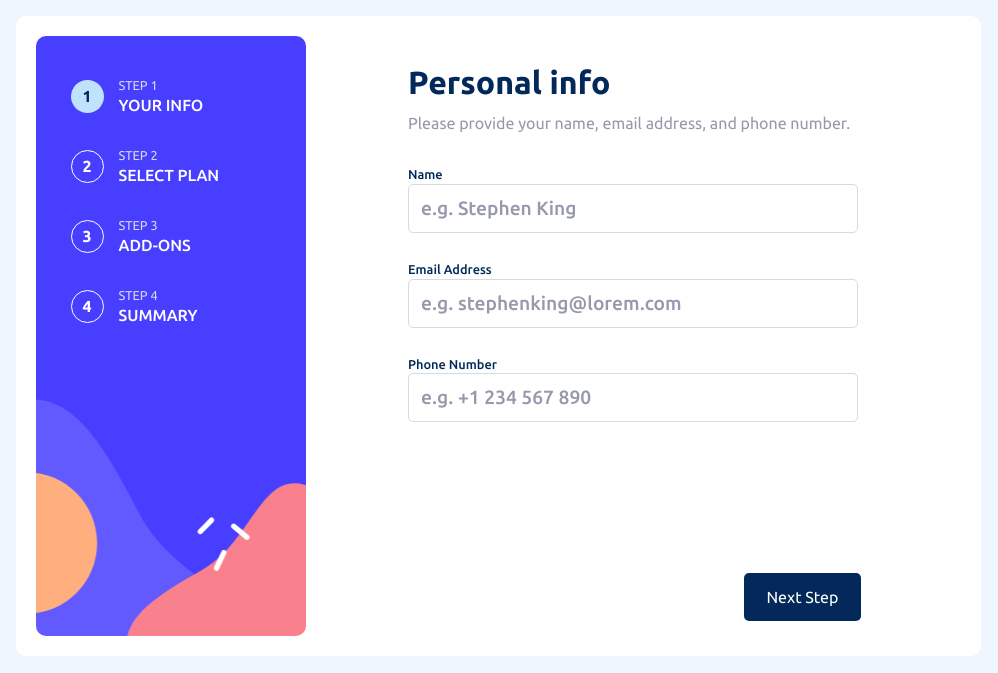
it: Normal usage - desktop › should not proceed if the form is wrong
Click the button "Next Step" at (802, 597), box [744,573,860,621]
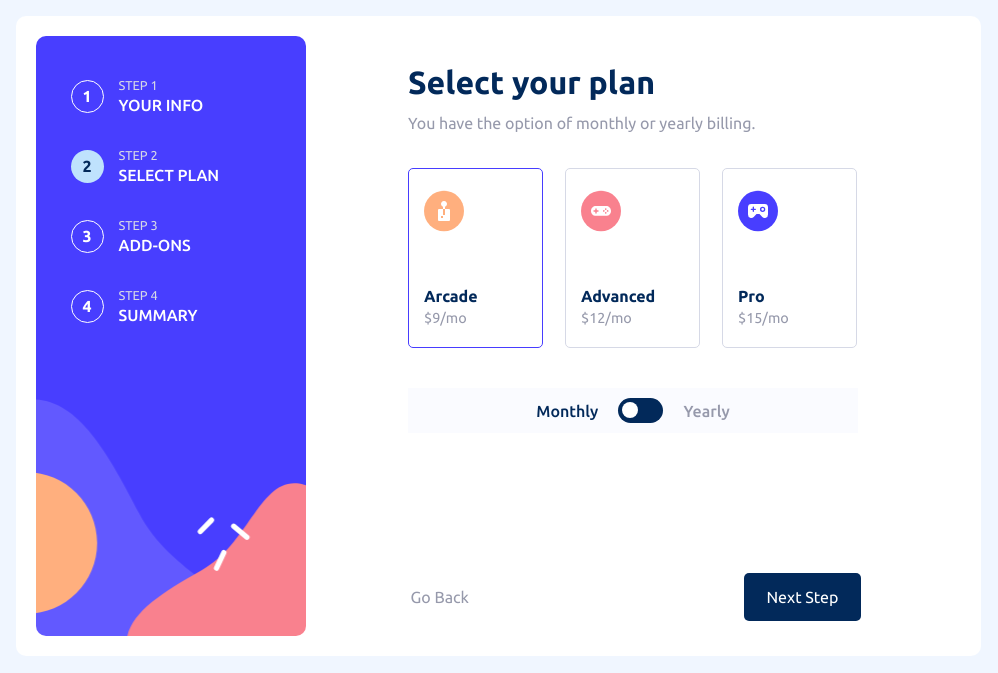
Click the button "Next Step" at (802, 597), box [744,573,860,621]
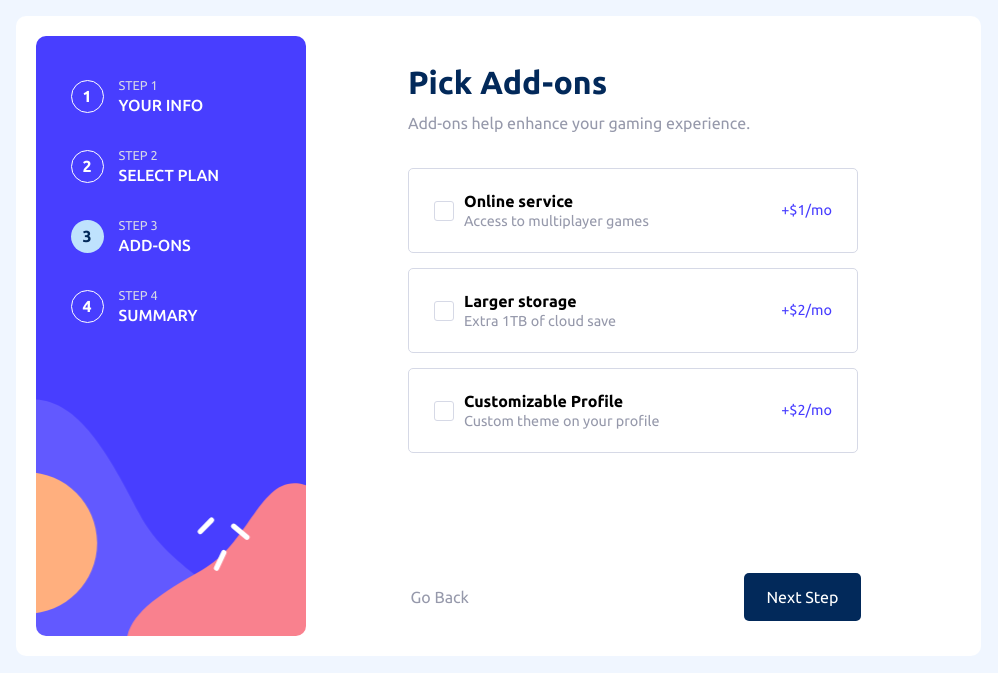
Click the button "Next Step" at (802, 597), box [744,573,860,621]
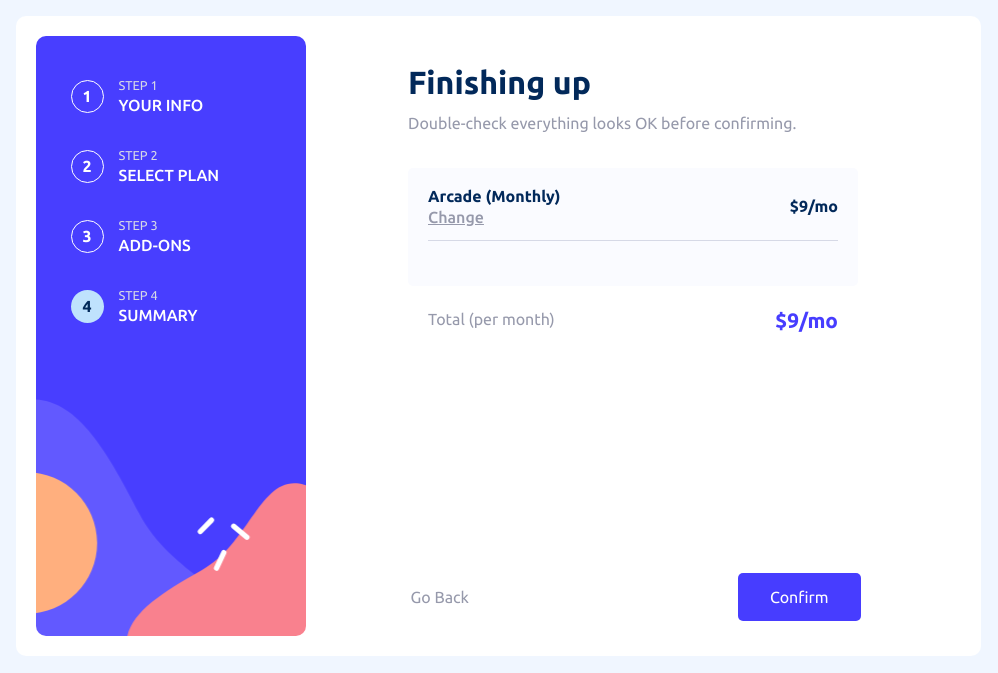
Click the button "Confirm" at (800, 597), box [738,573,861,621]
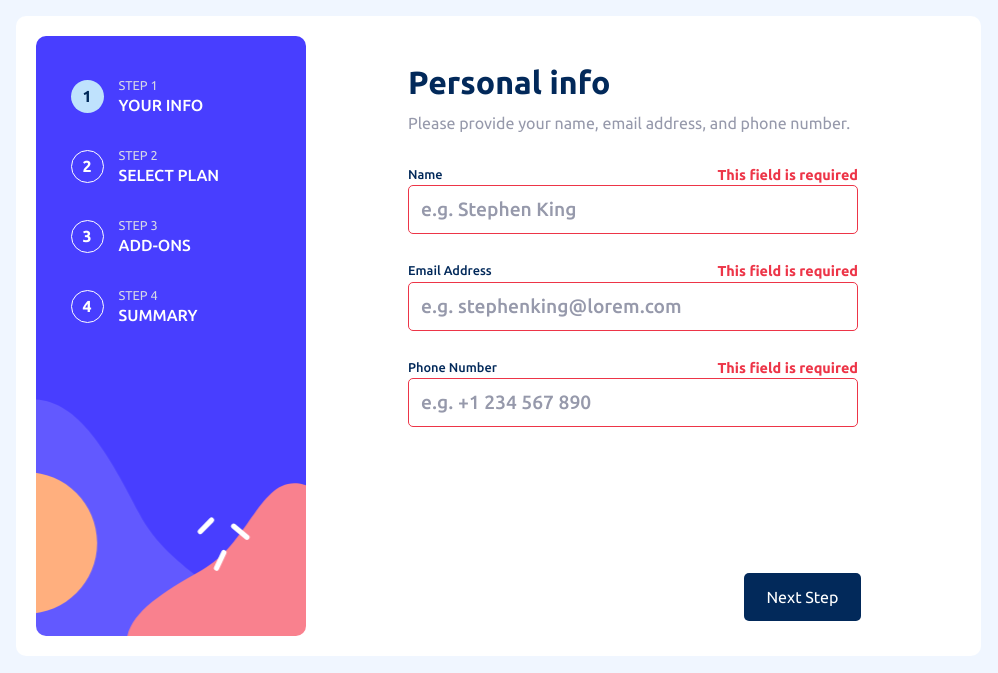
Expected: the heading "Personal info" is shown, [408,64,610,100]
Expected: the 1st text "This field is required" is shown, [718,168,858,182]
